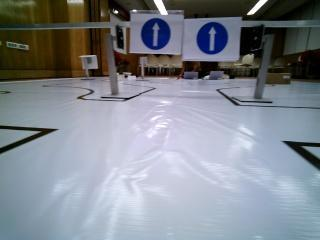straight: (185, 19, 240, 60), (133, 13, 182, 54)
